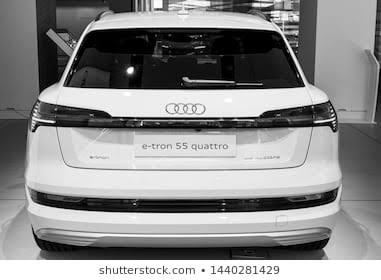audi: (22, 10, 344, 256)
